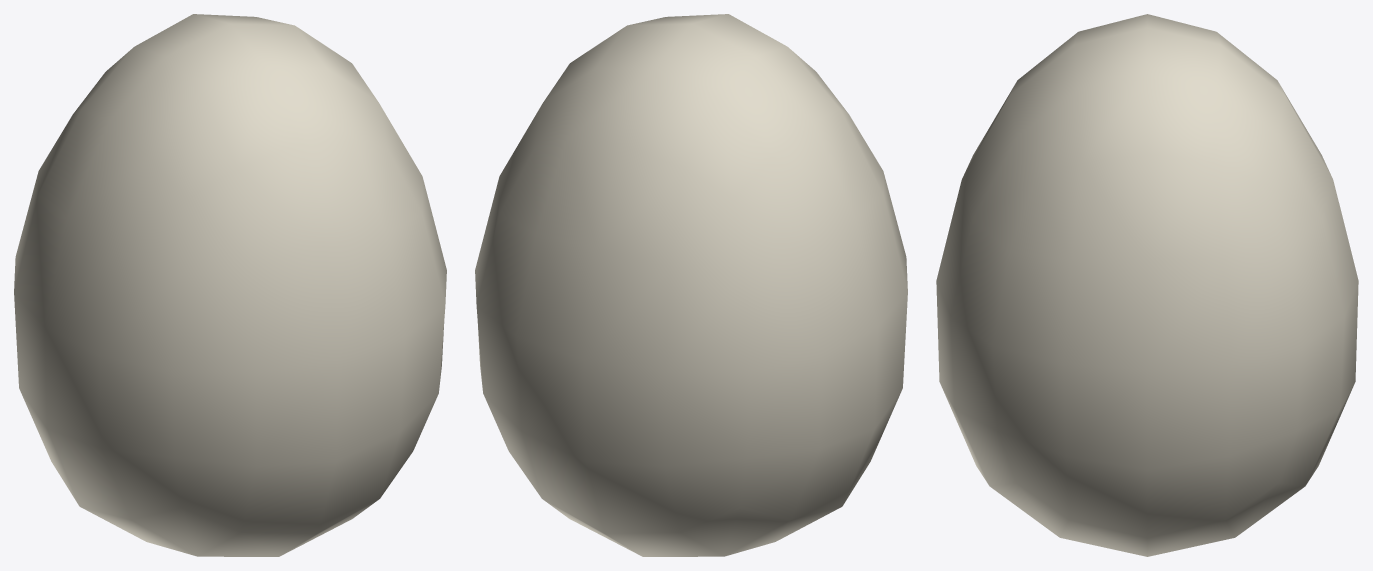
3 renders of one model, left to right at view 1: azimuth 30°, elevation 25°; view 2: azimuth 150°, elevation 25°; view 3: azimuth 270°, elevation 25°, orthographic.
Parts seen in each view (by area): view 1: big_egg_0; view 2: big_egg_0; view 3: big_egg_0.
Part boxes in pixels (left/top/right/bottom): big_egg_0: left=14, top=14, right=446, bottom=556; big_egg_0: left=475, top=14, right=907, bottom=556; big_egg_0: left=936, top=14, right=1358, bottom=556.
Bounding box in the file's own units: 0.3728 × 0.4927 × 0.3728.
